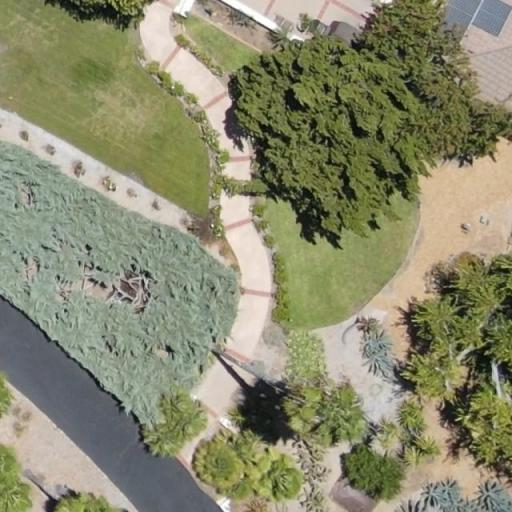solar-panel: (433, 0, 512, 40)
